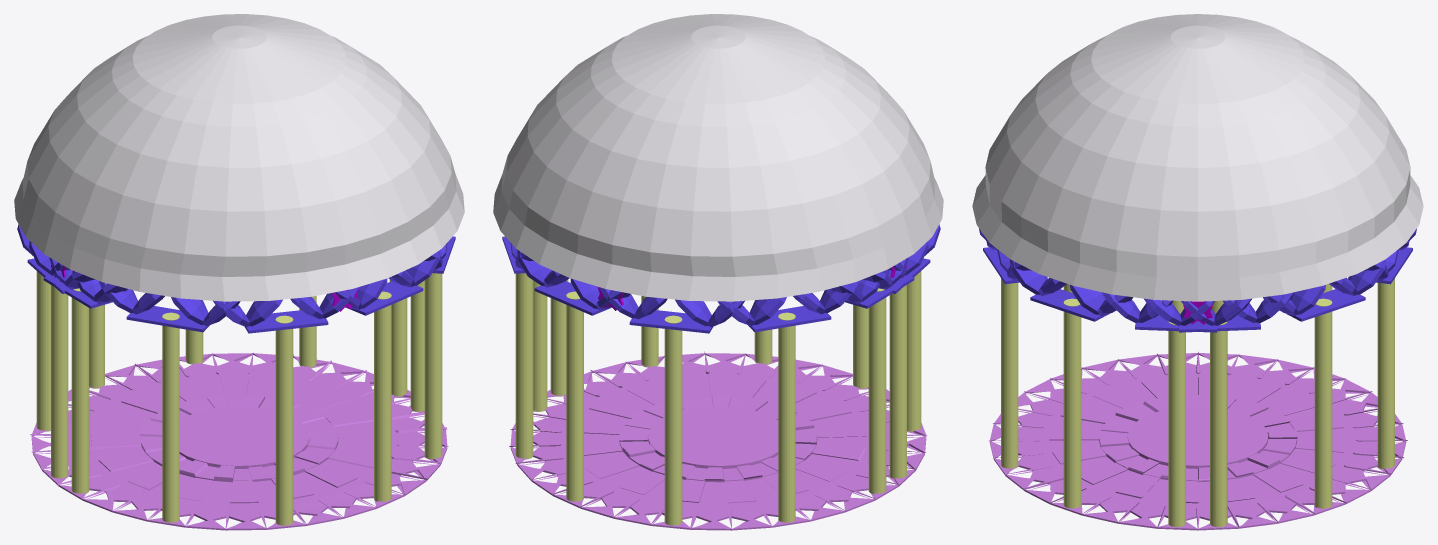
File: purgola.fbx
3 views of the same model, side by side, from view 1: azimuth 30°, elevation 25°; view 2: azimuth 150°, elevation 25°; view 3: azimuth 270°, elevation 25° (orthographic).
Visible parts, largest first — view 1: Sphere, Cylinder.006; view 2: Sphere, Cylinder.006; view 3: Sphere, Cylinder.006.
Part boxes in pixels (box(x1,y1,x2,y2)): Sphere: box(14, 14, 464, 301); Cylinder.006: box(17, 224, 455, 530); Sphere: box(493, 14, 943, 301); Cylinder.006: box(502, 224, 940, 530); Sphere: box(972, 14, 1423, 301); Cylinder.006: box(979, 228, 1416, 530).
Size of the model in its own units: 2186 by 2167 by 2186.
